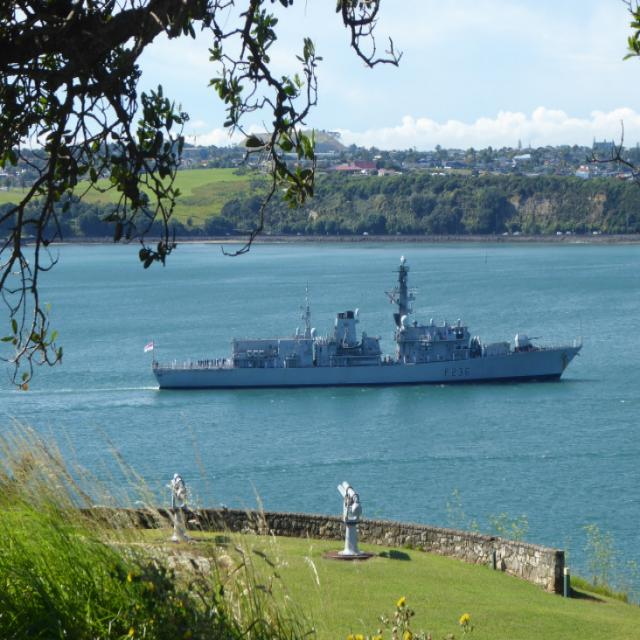Fragata: (147, 256, 591, 397)
